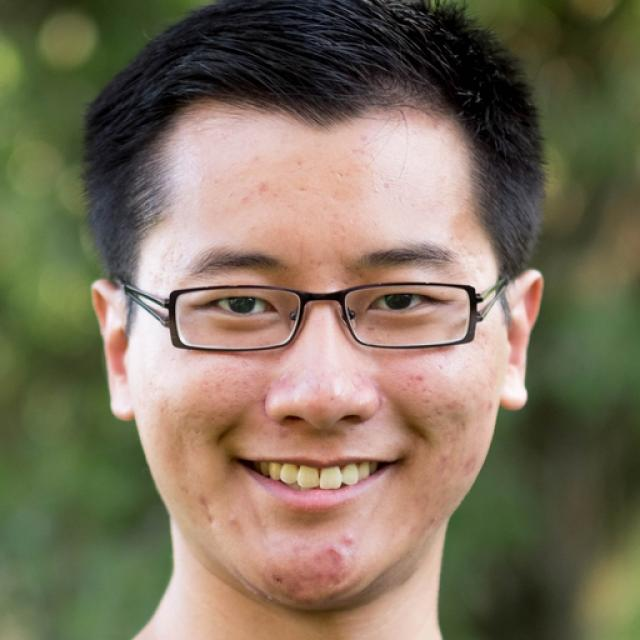Acne: (311, 539, 354, 566), (221, 507, 240, 534), (339, 530, 365, 549), (426, 404, 451, 422), (371, 390, 390, 412), (408, 368, 433, 383)
